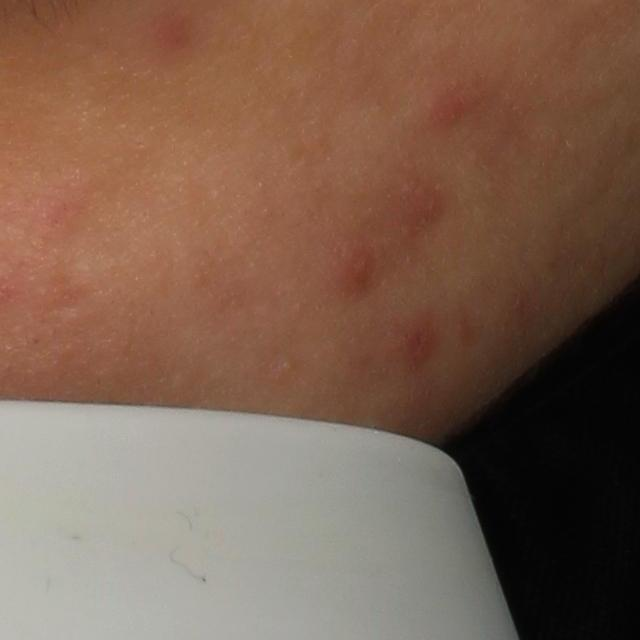papule: (315, 239, 382, 293), (394, 311, 443, 371), (420, 82, 480, 130), (397, 180, 444, 227)
